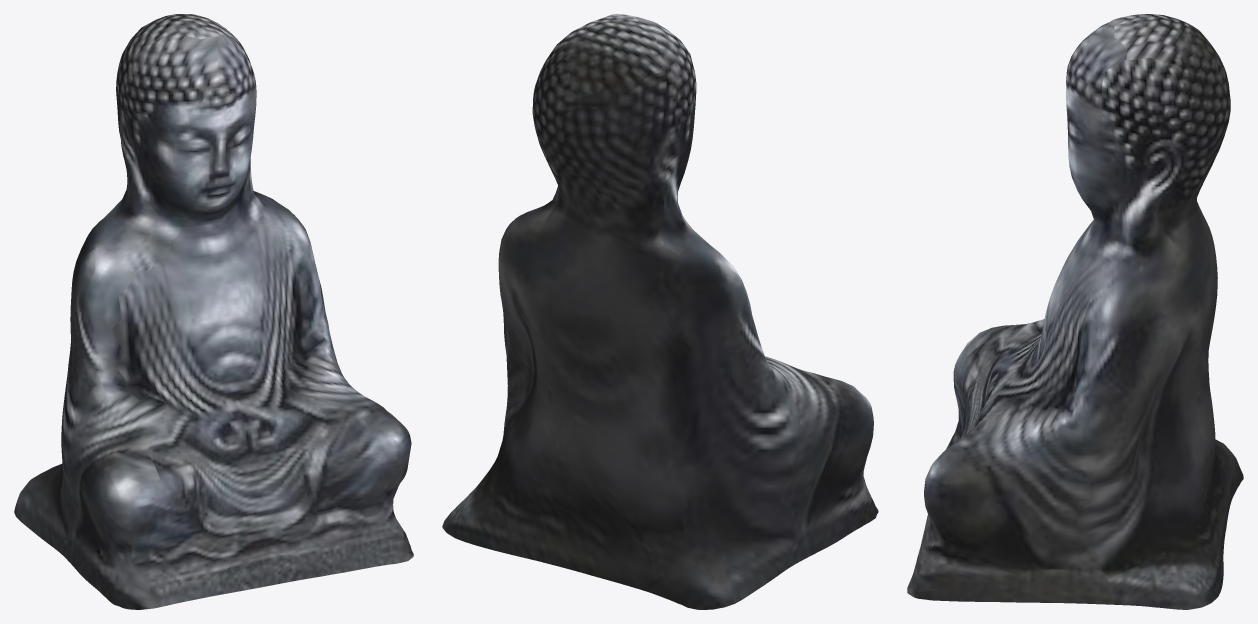
File: medicine.glb
3 renders of one model, left to right at view 1: azimuth 30°, elevation 25°; view 2: azimuth 150°, elevation 25°; view 3: azimuth 270°, elevation 25°, orthographic. The views are drawn at different scales.
Parts seen in each view (by area): view 1: Object_2; view 2: Object_2; view 3: Object_2.
Boxes of the visible parts, bbox=[...] form: Object_2: bbox=[14, 14, 413, 609]; Object_2: bbox=[442, 14, 878, 609]; Object_2: bbox=[907, 14, 1243, 609].
Size of the model in its own units: 0.2441 by 0.3719 by 0.2203.
Materials: 1 (1 with a texture image).
